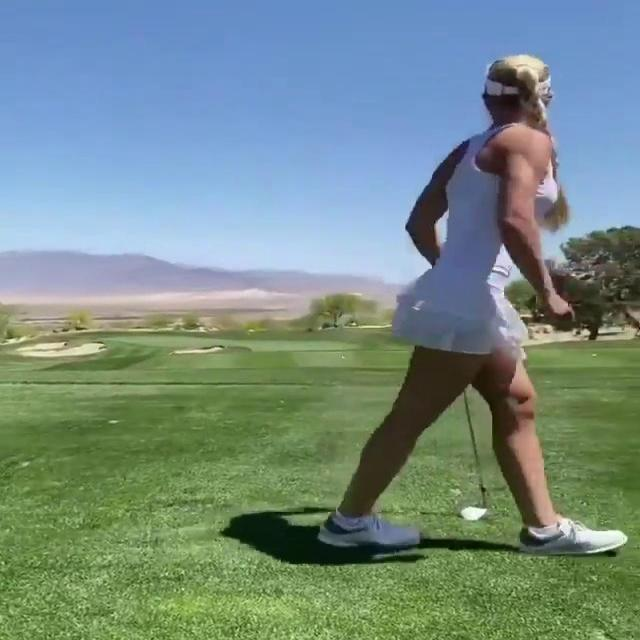ClubHead: (458, 506, 488, 520)
